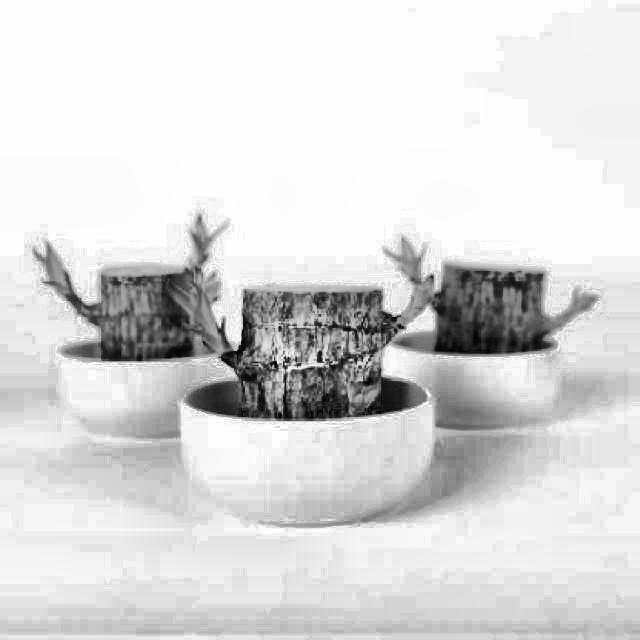plants: (171, 274, 434, 528)
